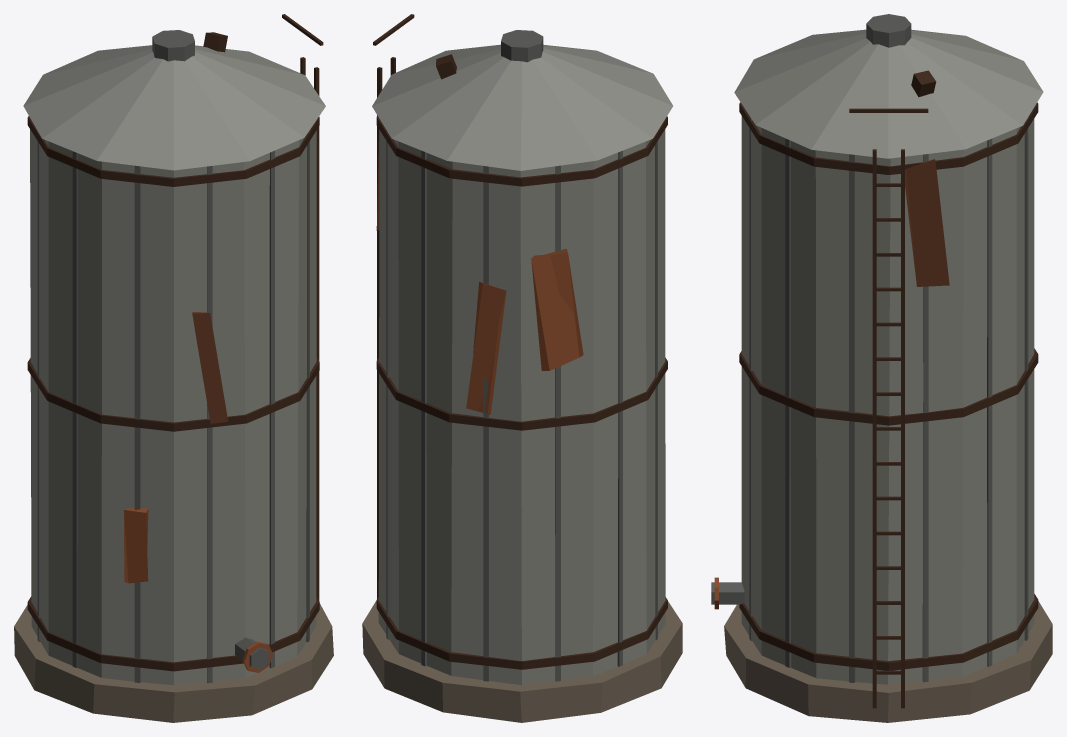
File: storage_tank.glb
3 views of the same model, side by side, from view 1: azimuth 30°, elevation 25°; view 2: azimuth 150°, elevation 25°; view 3: azimuth 270°, elevation 25° (orthographic). The views are drawn at different scales.
Visible parts, largest first — view 1: storage_tank; view 2: storage_tank; view 3: storage_tank.
Boxes of the visible parts, x1=… form: storage_tank: x1=14, y1=14, x2=333, y2=722; storage_tank: x1=362, y1=14, x2=682, y2=722; storage_tank: x1=711, y1=14, x2=1052, y2=722.
Size of the model in its own units: 5.85 by 12.38 by 6.06.
